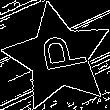P_W: (30, 34, 87, 81)
